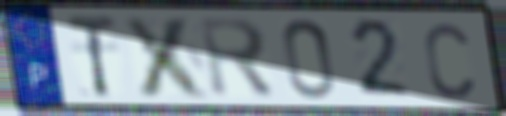0: (279, 16, 338, 101)
2: (349, 15, 414, 103)
C: (421, 19, 477, 101)
R: (196, 14, 279, 101)
T: (63, 13, 119, 101)
X: (120, 13, 215, 101)
